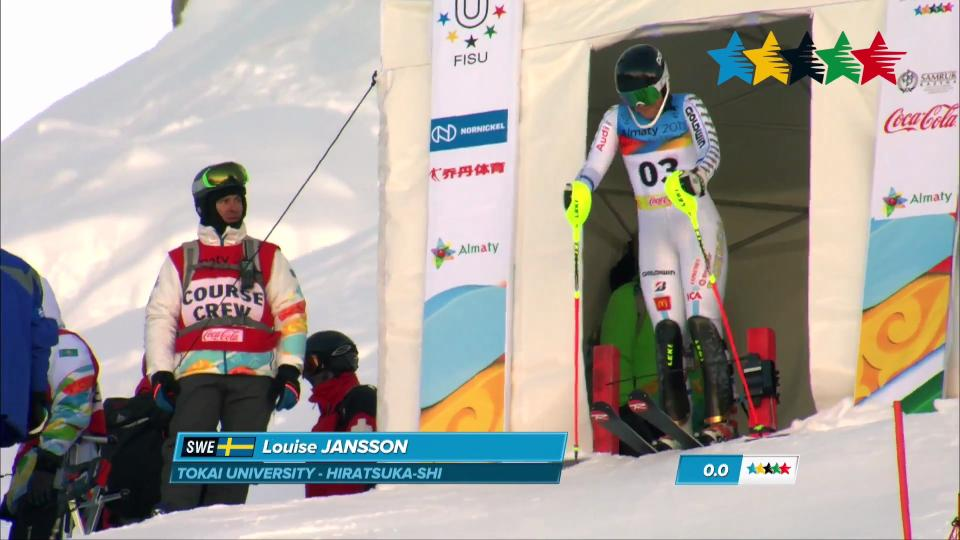gate: (863, 383, 948, 540)
